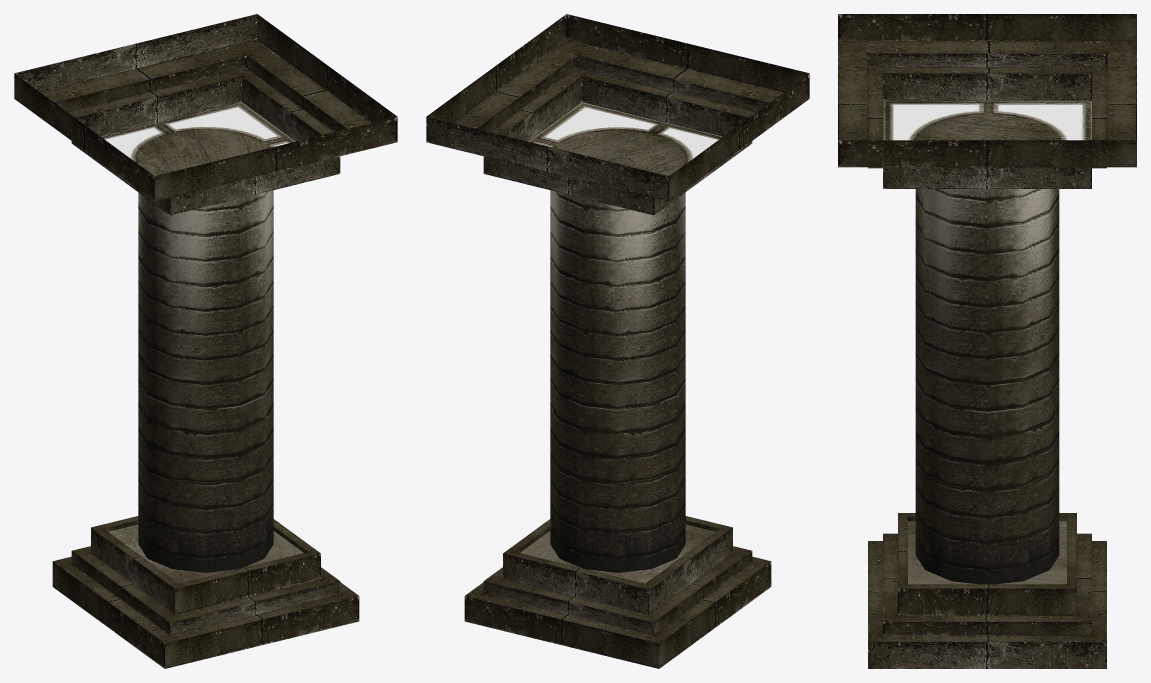
File: colomn.fbx
The picture shows the model from 3 angles, left to right: view 1: azimuth 30°, elevation 25°; view 2: azimuth 150°, elevation 25°; view 3: azimuth 270°, elevation 25°; orthographic projection. The views are drawn at different scales.
Visible parts, largest first — view 1: mesh_0, mesh_1; view 2: mesh_0, mesh_1; view 3: mesh_0, mesh_1.
Boxes of the visible parts, x1,y1,x2,y2 form: mesh_0: (14, 14, 397, 668); mesh_1: (138, 190, 273, 572); mesh_0: (426, 14, 809, 668); mesh_1: (550, 190, 685, 572); mesh_0: (838, 14, 1136, 668); mesh_1: (915, 189, 1059, 584).
Size of the model in its own units: 200 by 400 by 200.
2 materials, 2 textured.
